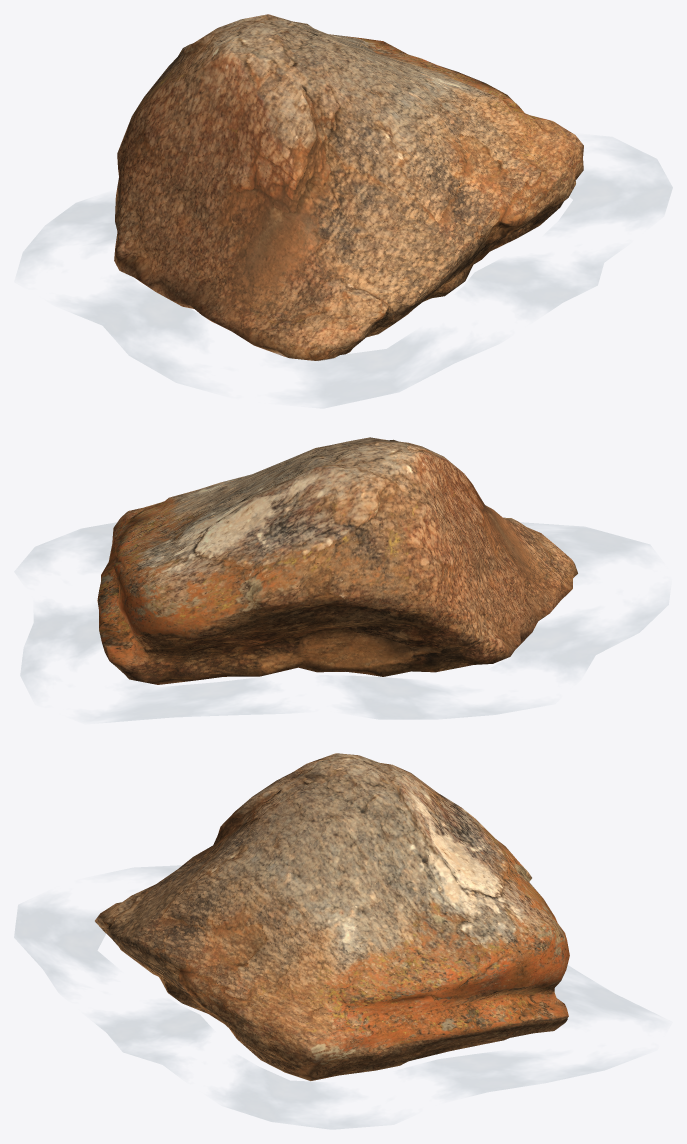
The model's file is mm6_deco_surfrock_a.glb.
The picture shows the model from 3 angles, top to bottom: view 1: azimuth 30°, elevation 25°; view 2: azimuth 150°, elevation 25°; view 3: azimuth 270°, elevation 25°; orthographic projection. The views are drawn at different scales.
Visible parts, largest first — view 1: SurfRockA; view 2: SurfRockA; view 3: SurfRockA.
Part boxes in pixels (x1,y1,x2,y2): SurfRockA: (15,14,672,408); SurfRockA: (14,437,670,723); SurfRockA: (14,753,669,1129).
Size of the model in its own units: 3.4 by 1.14 by 3.5.
Materials: 2 (2 with a texture image).
